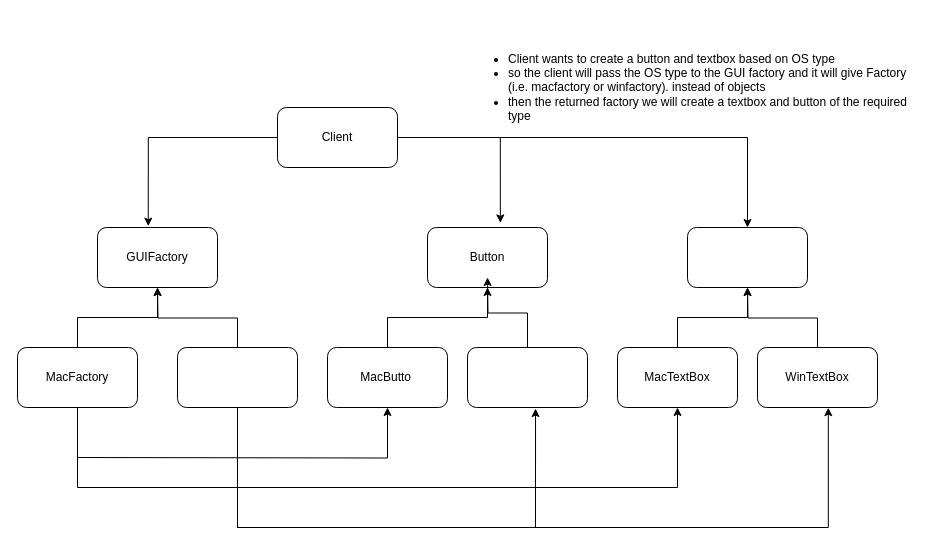
This 935x553 diagram has some shape labels left out. The centre of each missing label's shape, as x and y in pixels:
"TextBox" belongs at (747,257).
"WinButton" belongs at (527,377).
"WinFactory" belongs at (237,377).
